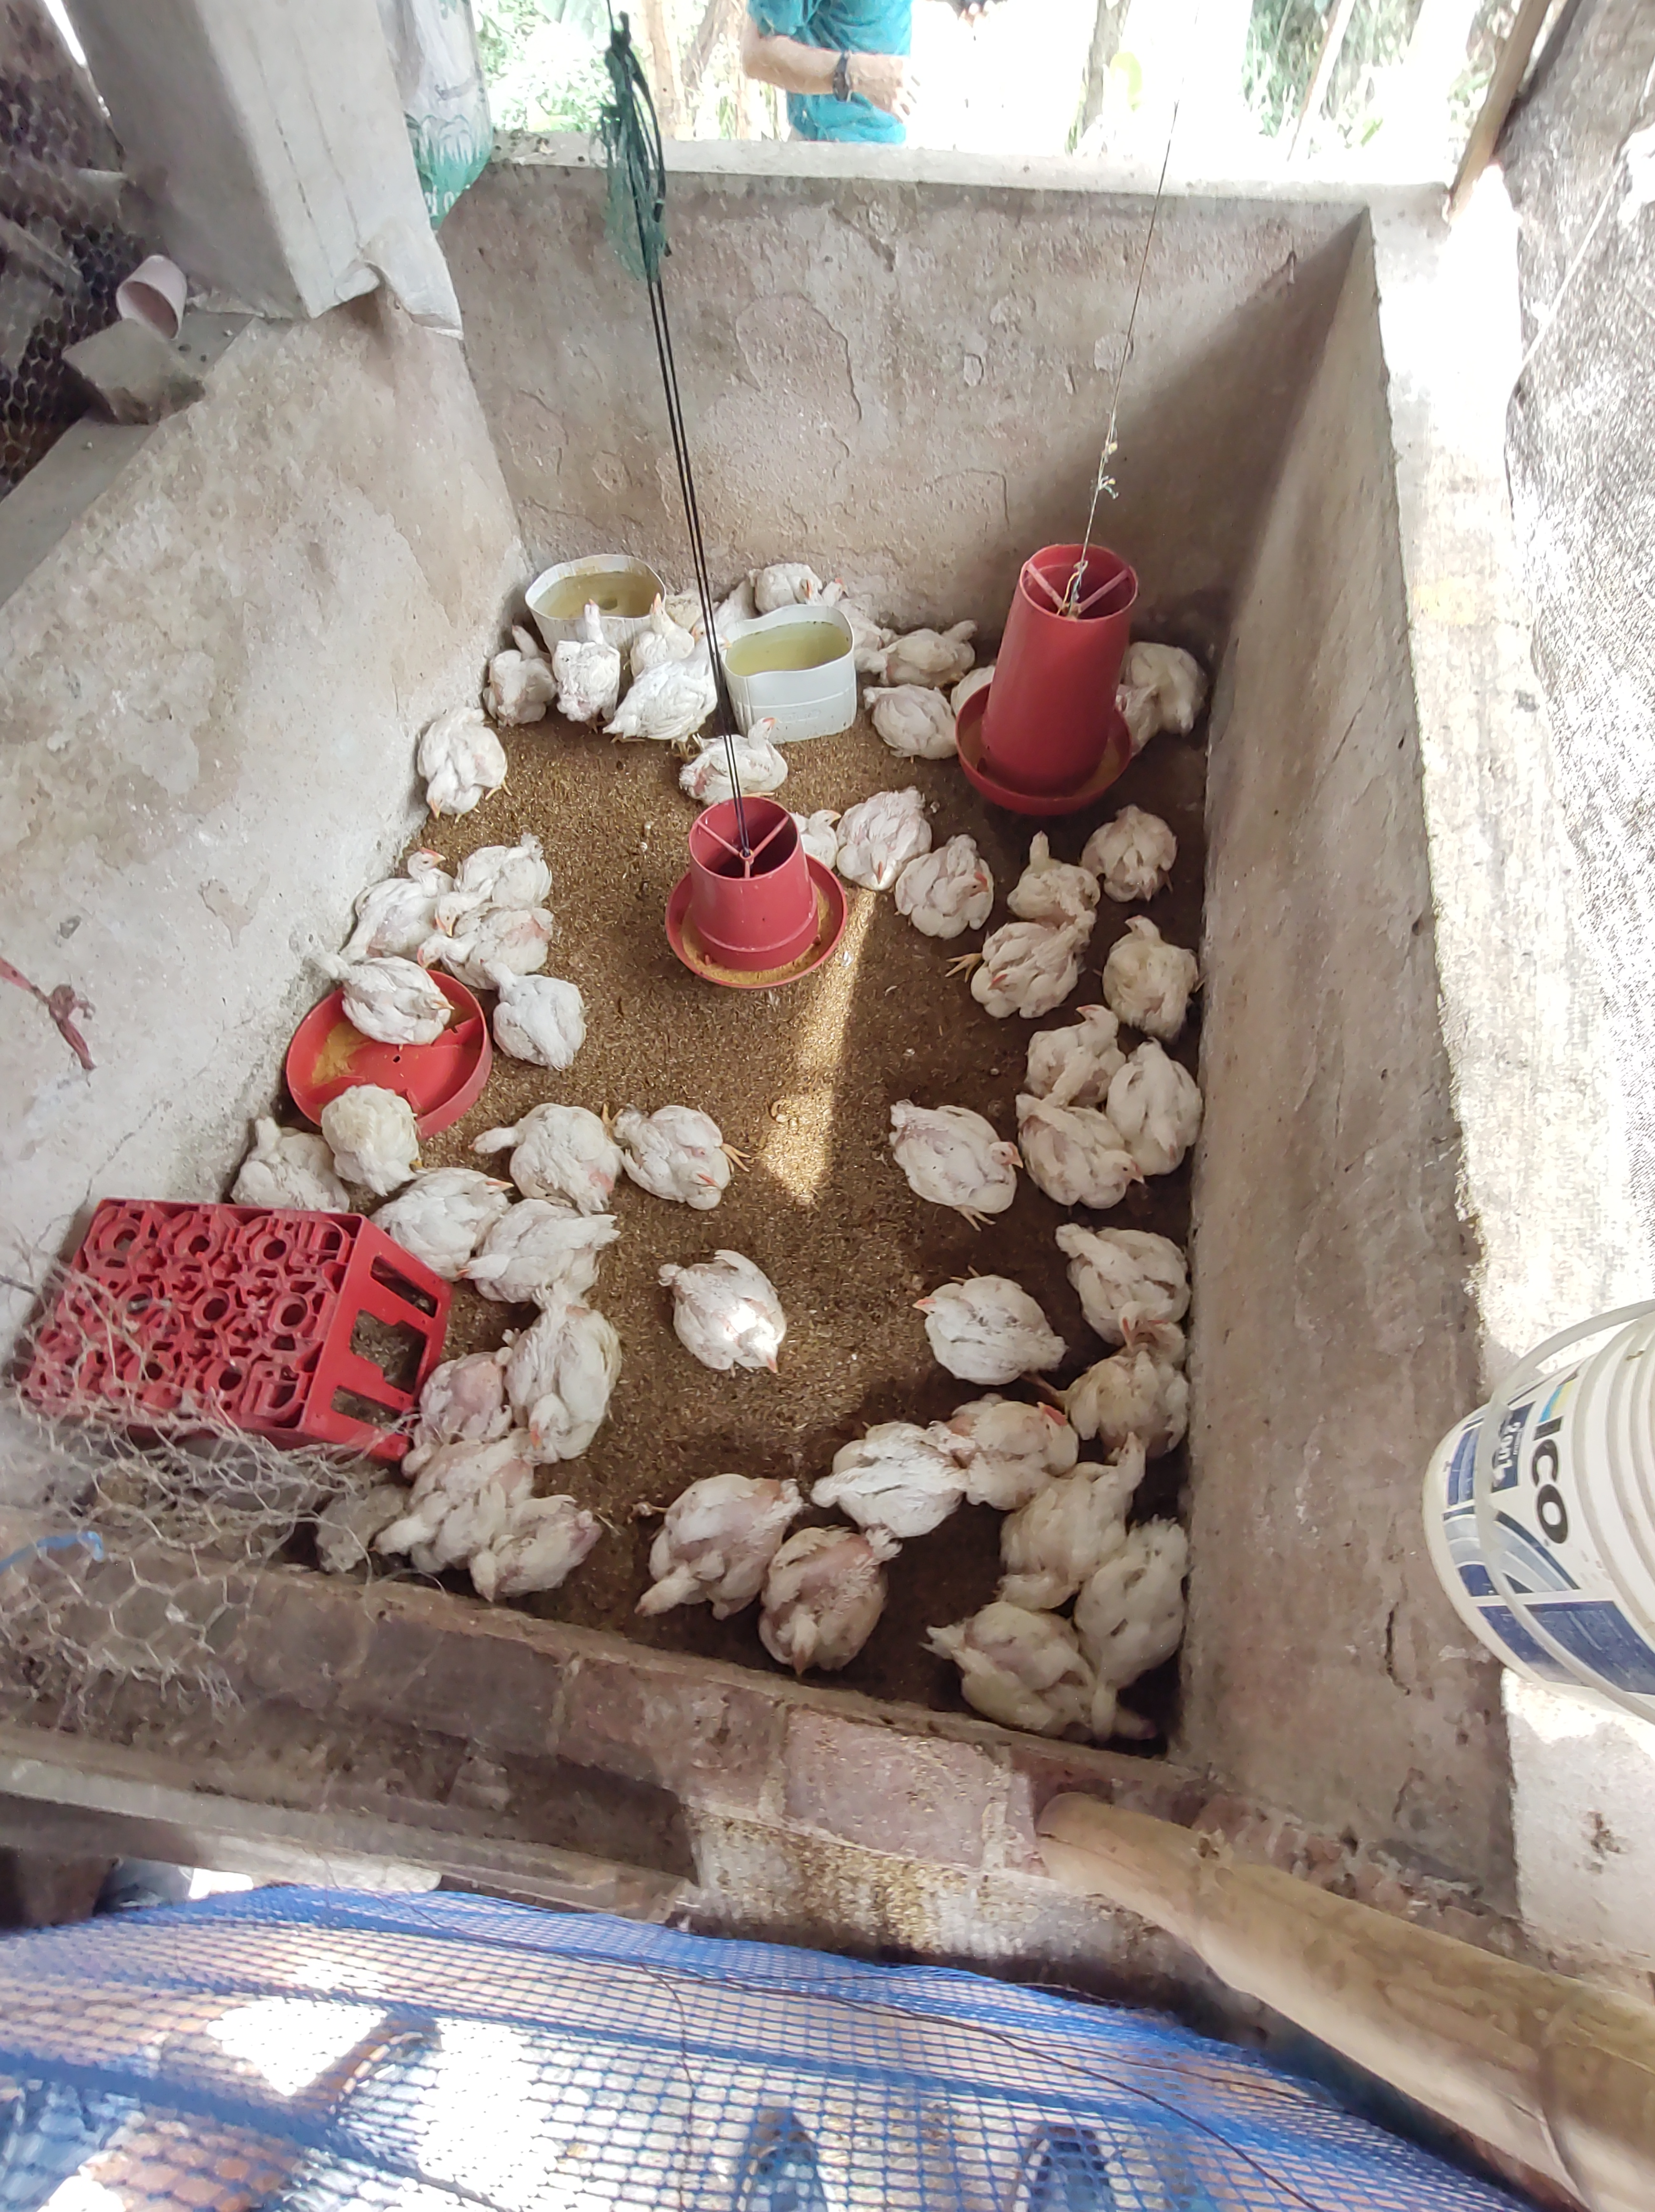Pollos: (951, 1591, 1161, 1746), (629, 1476, 782, 1621), (775, 1522, 895, 1673), (914, 1275, 1066, 1381), (890, 1099, 1027, 1212), (668, 1249, 786, 1376), (468, 1499, 602, 1609), (454, 1212, 621, 1297), (615, 1099, 741, 1209), (475, 955, 591, 1069), (516, 1296, 595, 1454), (322, 960, 457, 1050), (402, 1349, 497, 1475), (953, 1398, 1081, 1485), (1067, 1223, 1144, 1346), (464, 1104, 605, 1170), (436, 836, 544, 922), (330, 1089, 421, 1184), (1053, 1118, 1151, 1207), (647, 630, 723, 739), (362, 842, 440, 946), (235, 1111, 327, 1196), (1127, 638, 1208, 732), (980, 929, 1069, 1012), (859, 685, 960, 758), (363, 1494, 469, 1558), (1050, 1002, 1120, 1099), (1102, 800, 1175, 892), (417, 732, 497, 816), (909, 847, 993, 927), (396, 1169, 516, 1223), (1111, 915, 1194, 988), (560, 598, 614, 710), (1074, 1433, 1151, 1511), (1019, 829, 1090, 913), (1137, 1320, 1189, 1428), (483, 626, 548, 711), (895, 614, 980, 675), (723, 715, 789, 786), (1142, 1090, 1200, 1162), (744, 556, 824, 602), (640, 584, 688, 654), (855, 840, 901, 887), (801, 807, 848, 842)
